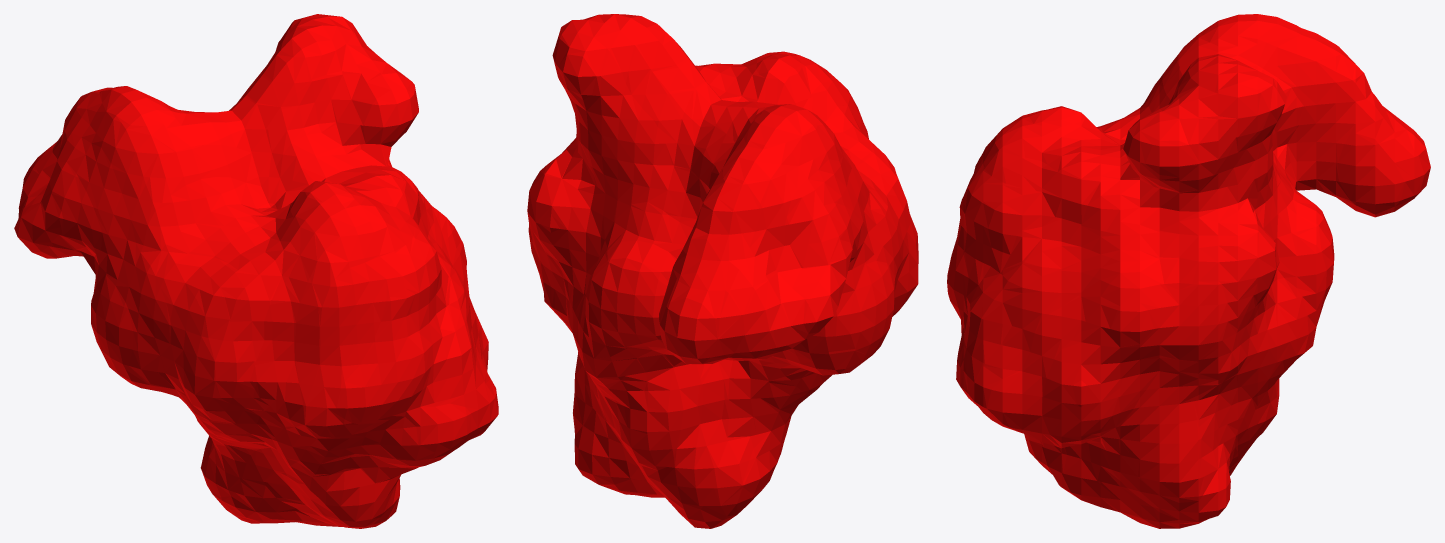
The model's file is gsk_coarse.dae.
3 renders of one model, left to right at view 1: azimuth 30°, elevation 25°; view 2: azimuth 150°, elevation 25°; view 3: azimuth 270°, elevation 25°, orthographic. The views are drawn at different scales.
Parts seen in each view (by area): view 1: gsk; view 2: gsk; view 3: gsk.
Boxes of the visible parts, x1,y1,x2,y2 form: gsk: (14, 14, 498, 528); gsk: (527, 14, 918, 528); gsk: (947, 14, 1430, 528).
Size of the model in its own units: 55.07 by 70.2 by 66.08.
